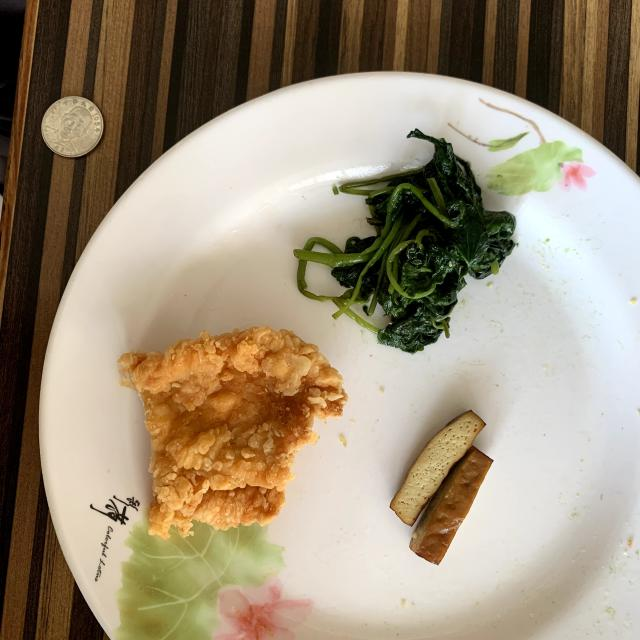coin: (41, 96, 104, 158)
firm tofu: (390, 410, 492, 564)
fried chicken cutlet: (120, 328, 348, 539)
sweet potato leaves: (294, 129, 515, 352)
